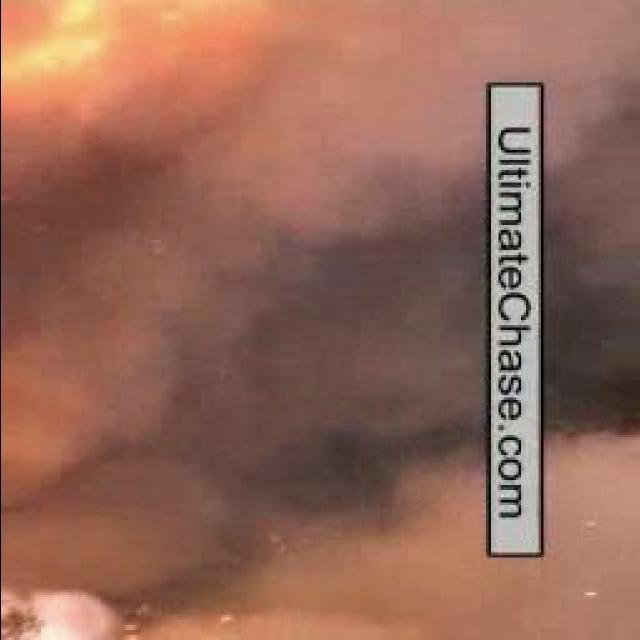Fire: (2, 0, 258, 110), (107, 592, 255, 640)
